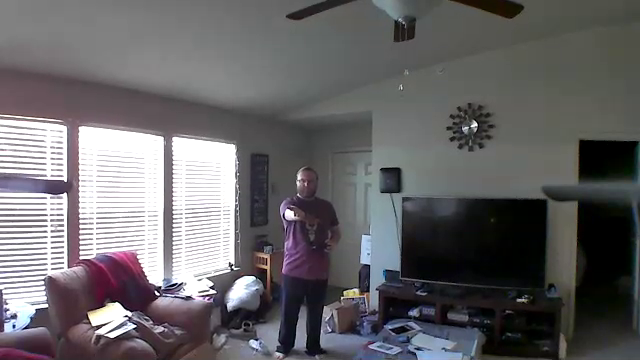land: (285, 204, 311, 221)
